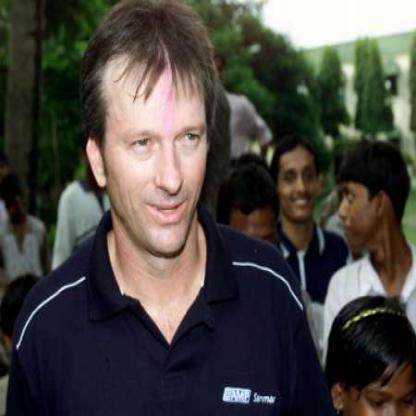face: (102, 3, 212, 259), (334, 148, 381, 251), (278, 137, 321, 222)
